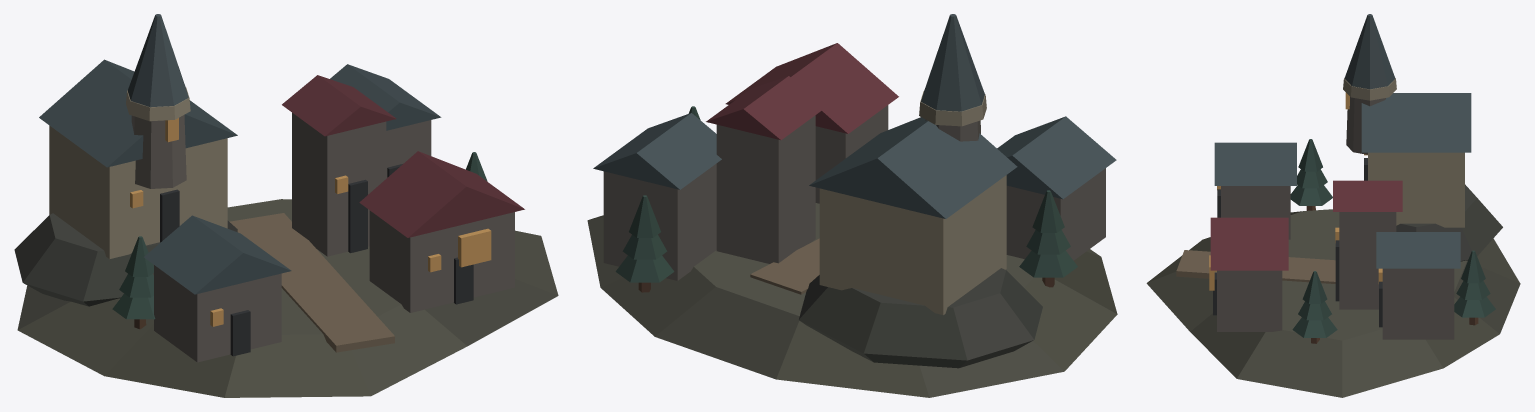
The model's file is village.glb.
3 renders of one model, left to right at view 1: azimuth 30°, elevation 25°; view 2: azimuth 150°, elevation 25°; view 3: azimuth 270°, elevation 25°, orthographic. The views are drawn at different scales.
Visible parts, largest first — view 1: Village of Barovia · atlas landmark; view 2: Village of Barovia · atlas landmark; view 3: Village of Barovia · atlas landmark.
Boxes of the visible parts, box(x1,y1,x2,y2) form: Village of Barovia · atlas landmark: box(14, 14, 558, 397); Village of Barovia · atlas landmark: box(587, 14, 1117, 397); Village of Barovia · atlas landmark: box(1146, 14, 1520, 397).
Size of the model in its own units: 2.15 by 1.31 by 1.77.
